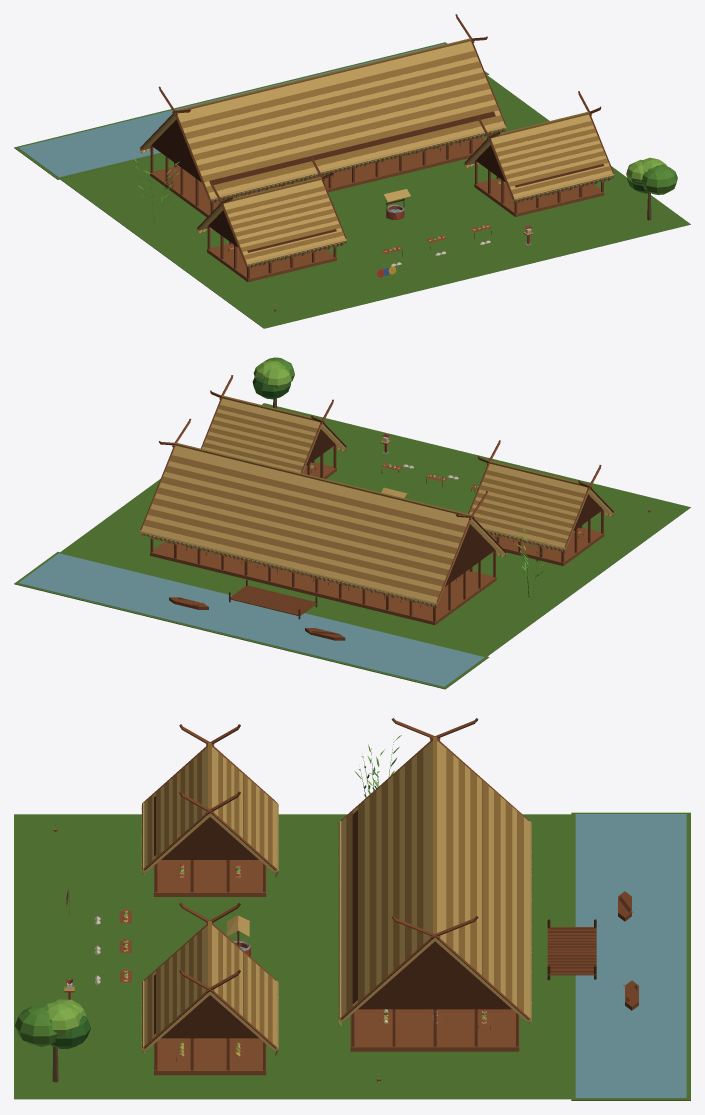
File: market.glb
3 renders of one model, top to bottom at view 1: azimuth 30°, elevation 25°; view 2: azimuth 150°, elevation 25°; view 3: azimuth 270°, elevation 25°, orthographic. The views are drawn at different scales.
Visible parts, largest first — view 1: body; view 2: body; view 3: body.
Part boxes in pixels (left/top/right/bottom): body: left=14, top=14, right=690, bottom=328; body: left=14, top=357, right=690, bottom=689; body: left=14, top=718, right=690, bottom=1100.
Bounding box in the file's own units: 48.4 × 11.29 × 48.15.
